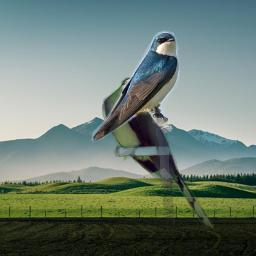Cuckoo: (102, 77, 220, 230)
Swallow: (88, 28, 183, 143)
